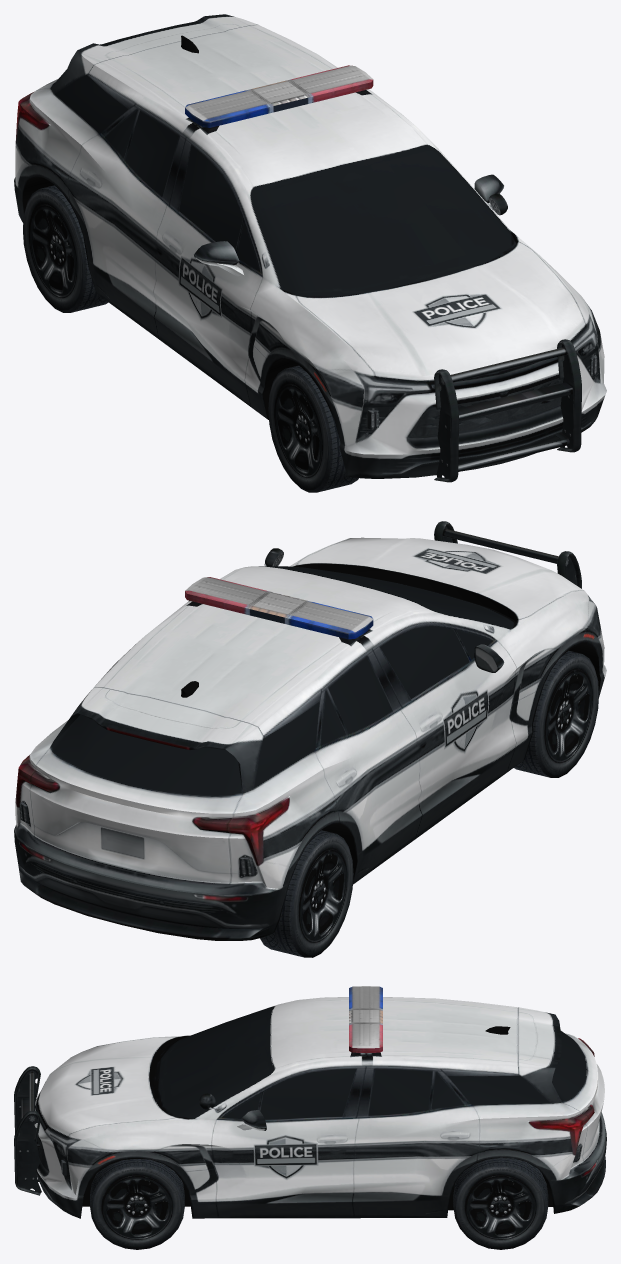
The model's file is car 18.fbx.
3 renders of one model, top to bottom at view 1: azimuth 30°, elevation 25°; view 2: azimuth 150°, elevation 25°; view 3: azimuth 270°, elevation 25°, orthographic. The views are drawn at different scales.
Parts seen in each view (by area): view 1: body1, polySurface7, polySurface8, jaro; view 2: body1, polySurface8, polySurface7, jaro; view 3: body1, polySurface6, polySurface5, jaro.
Part boxes in pixels (bbox=[...]): body1: bbox=[14, 14, 606, 482]; polySurface7: bbox=[268, 365, 358, 492]; polySurface8: bbox=[23, 185, 108, 312]; jaro: bbox=[185, 65, 373, 134]; body1: bbox=[14, 521, 606, 940]; polySurface8: bbox=[260, 830, 353, 957]; polySurface7: bbox=[514, 650, 598, 777]; jaro: bbox=[185, 577, 373, 646]; body1: bbox=[14, 997, 606, 1218]; polySurface6: bbox=[453, 1157, 548, 1249]; polySurface5: bbox=[90, 1159, 184, 1249]; jaro: bbox=[349, 986, 382, 1057].
Size of the model in its own units: 839 by 660 by 1909.
3 materials, 3 textured.
